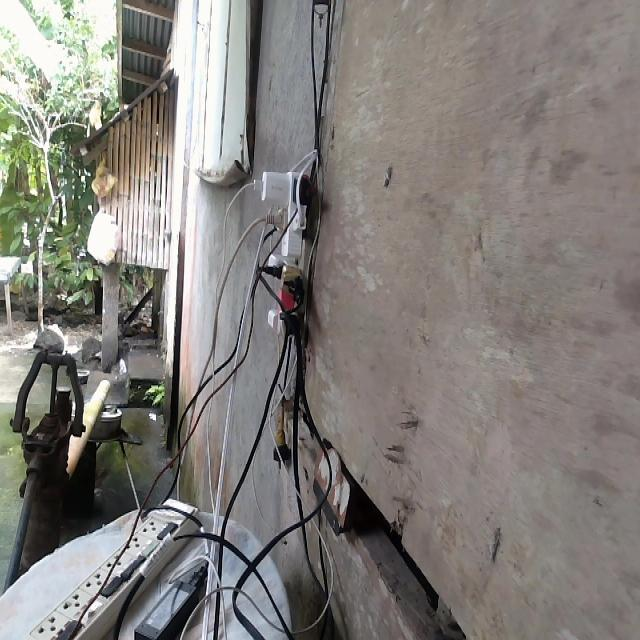-: (242, 164, 317, 344)
